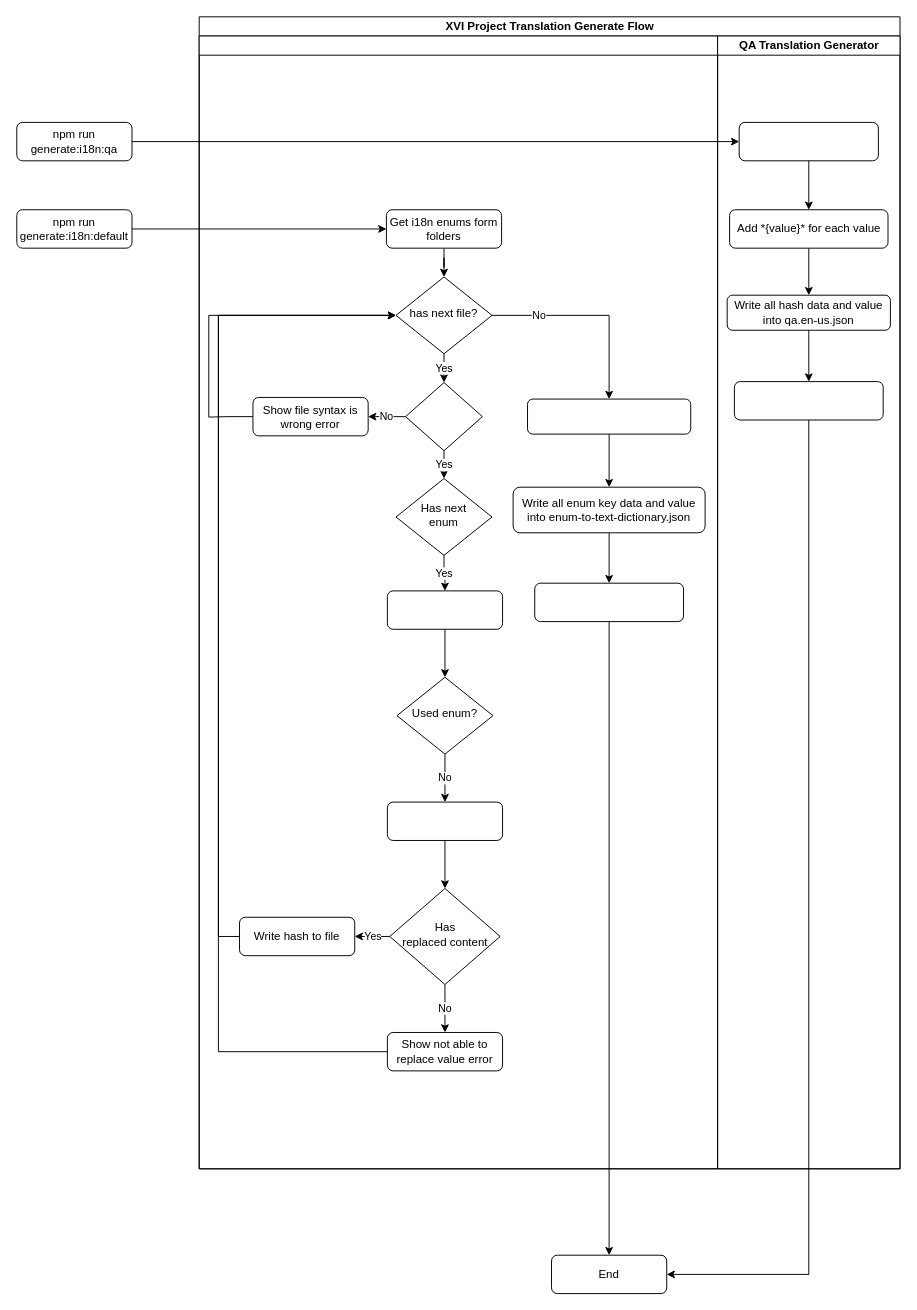
The diagram is 917 pixels wide and 1310 high, and some of its shapes have lost their labels. The shapes that lost their labels are listed below. From the top down, each one's box as (x1, y1, x2, y2) in pixels, then its label:
(738, 121, 878, 161): Read default.en-us.json
(405, 382, 482, 451): has any enum?
(527, 398, 691, 434): Write all hash data and value into default.en-us.json
(733, 381, 883, 420): Show success translated qa message
(386, 590, 503, 629): Get next enum
(198, 35, 718, 1169): i18n key to hash
(534, 582, 684, 622): Show success translated default message
(386, 801, 503, 840): Replace enum value with value hash
